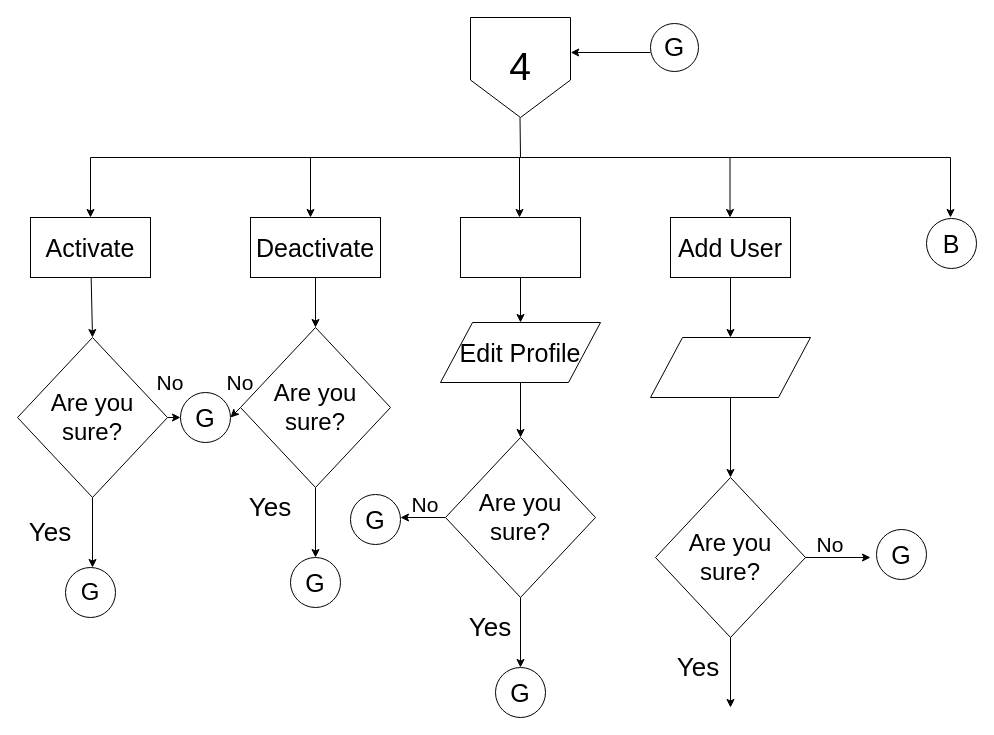
This 994x735 diagram has some shape labels left out. Each missing label, with the box of its shape:
Edit/View: (460, 216, 580, 278)
input Profile: (650, 336, 810, 398)
